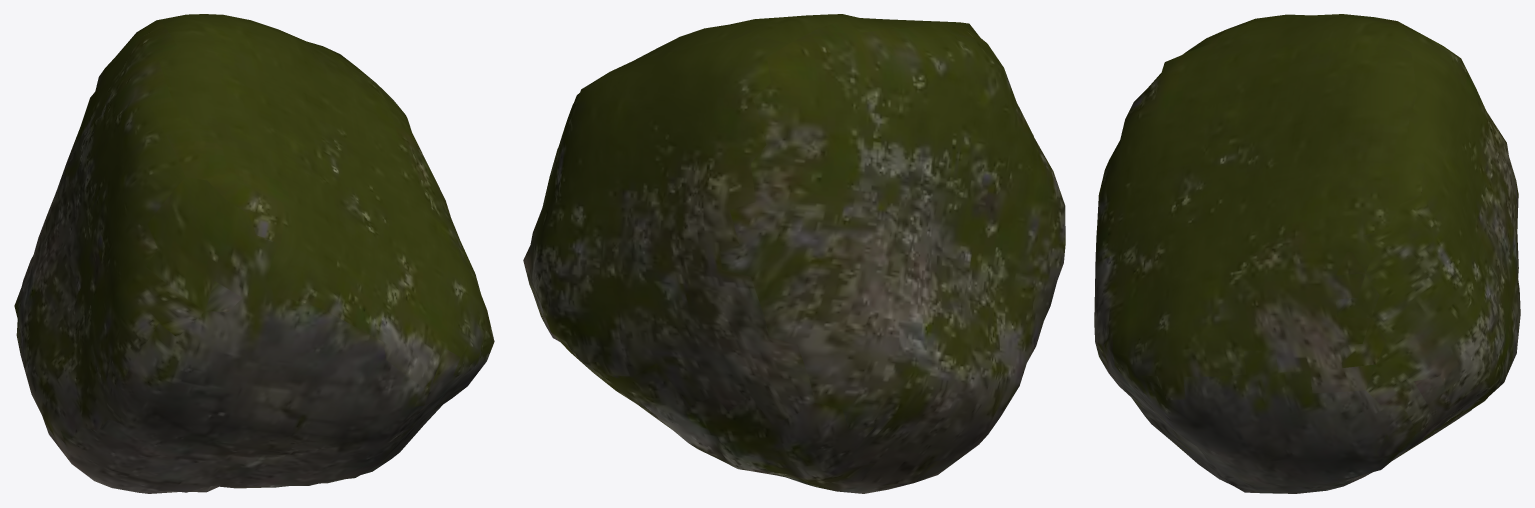
File: rock1.glb
3 views of the same model, side by side, from view 1: azimuth 30°, elevation 25°; view 2: azimuth 150°, elevation 25°; view 3: azimuth 270°, elevation 25° (orthographic). The views are drawn at different scales.
Visible parts, largest first — view 1: A_Set; view 2: A_Set; view 3: A_Set.
Boxes of the visible parts, <box> form: A_Set: <box>14,14,494,493</box>; A_Set: <box>523,14,1065,493</box>; A_Set: <box>1094,14,1520,493</box>.
Bounding box in the file's own units: 5.46 × 5.41 × 5.04.
1 material, 1 textured.
